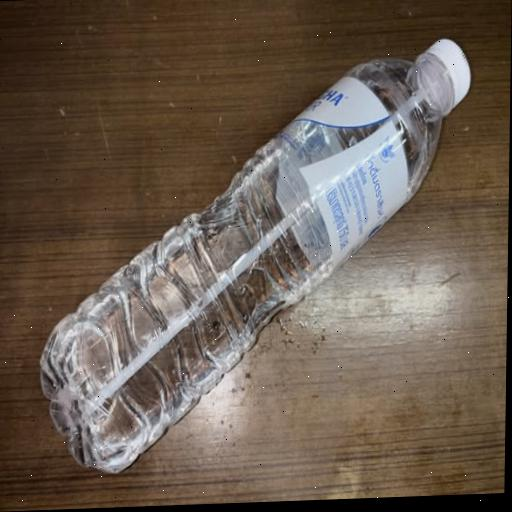bottle: (26, 9, 478, 493)
